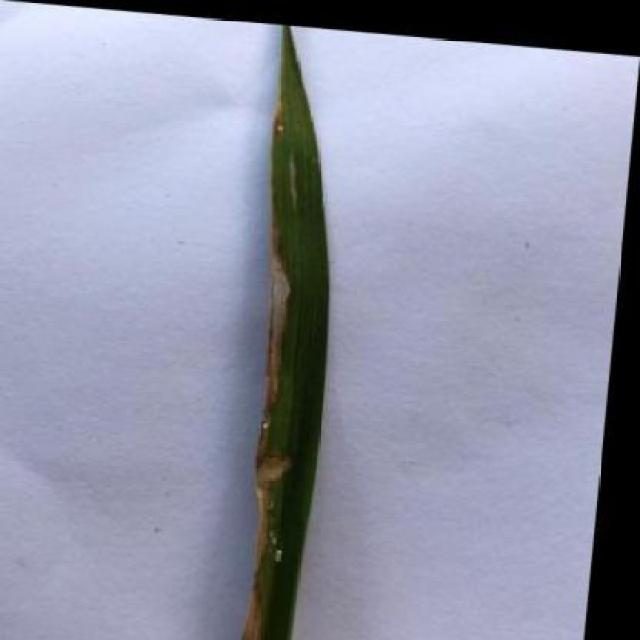Brown_Spot: (226, 18, 365, 640)
